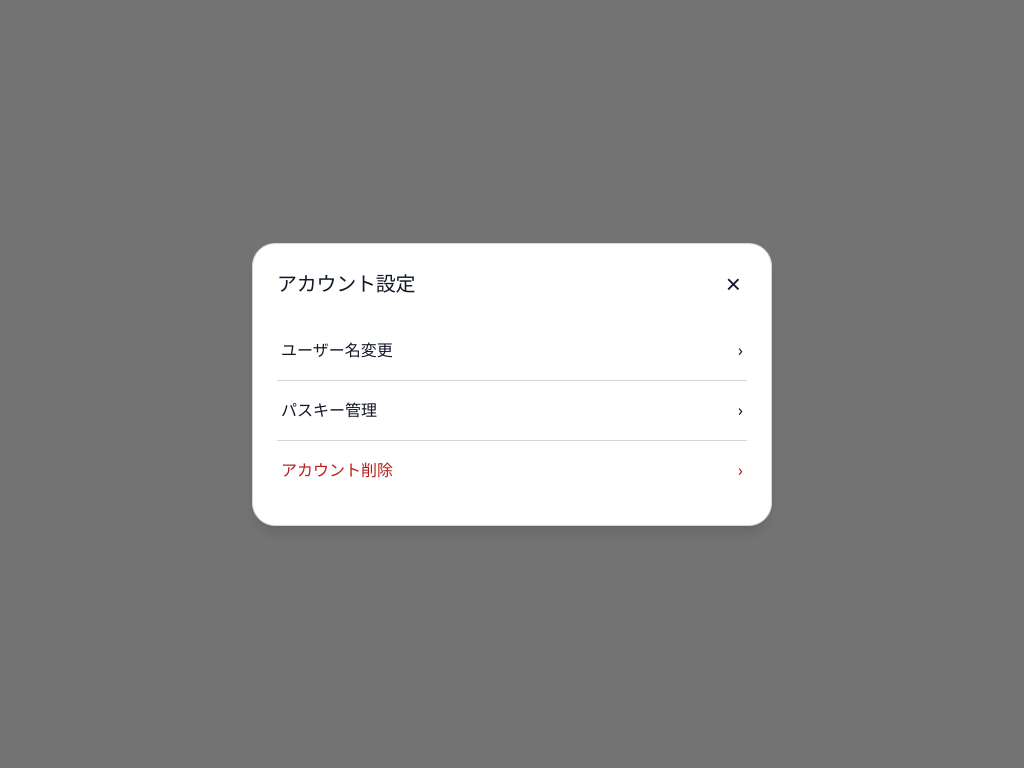
saves the normalized nickname and notifies the header/author consumers
Click the button "ユーザー名変更 ›": point(337, 350) [277,320,747,380]
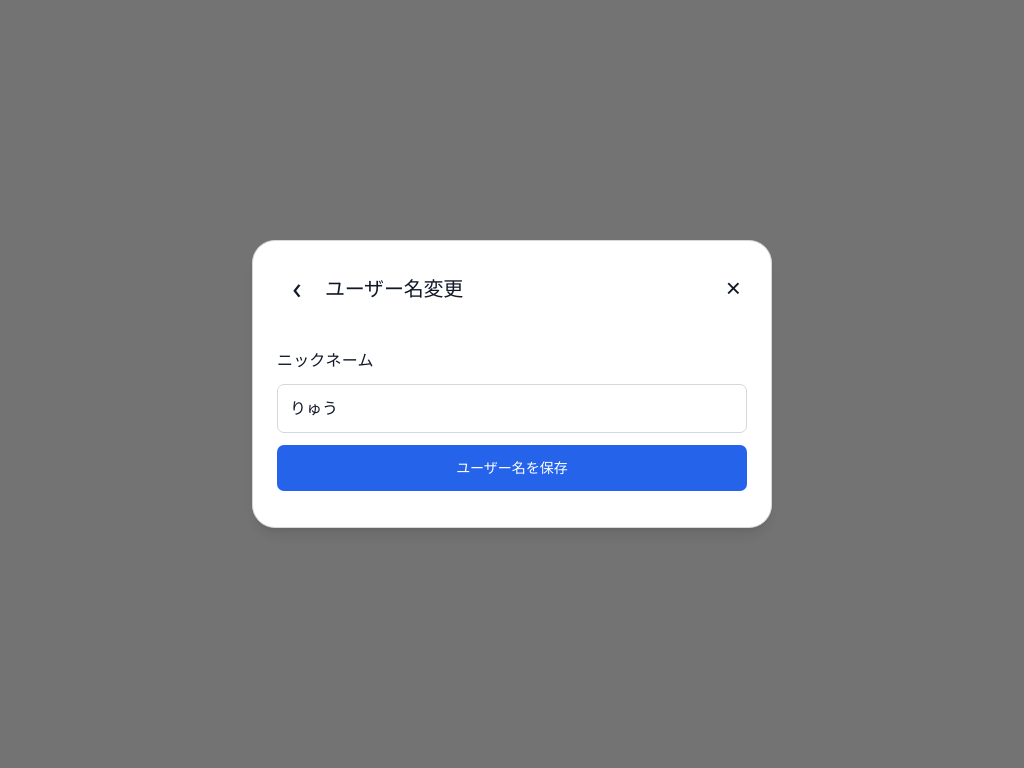
Replace the text in the field labelled "ニックネーム" with "　新しい名前　": point(512, 409) [277,384,747,433]
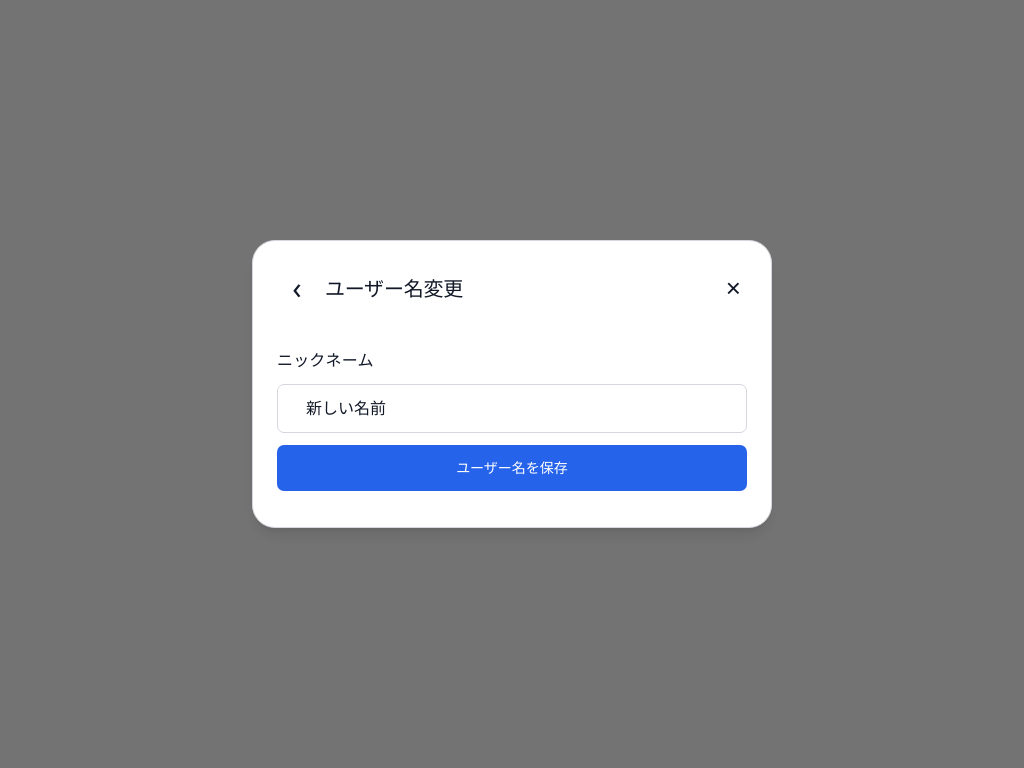
Click the button "ユーザー名を保存": point(512, 468) [277,445,747,491]
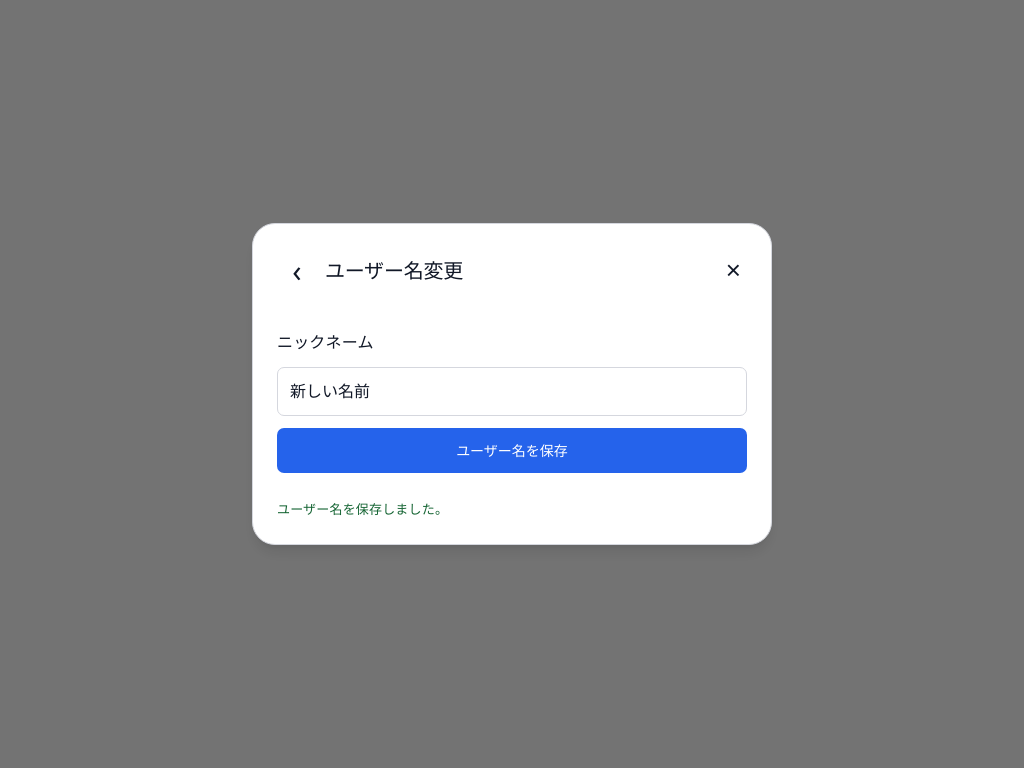
Check: the text "ユーザー名を保存しました。" is shown, box [277,500,448,518]
